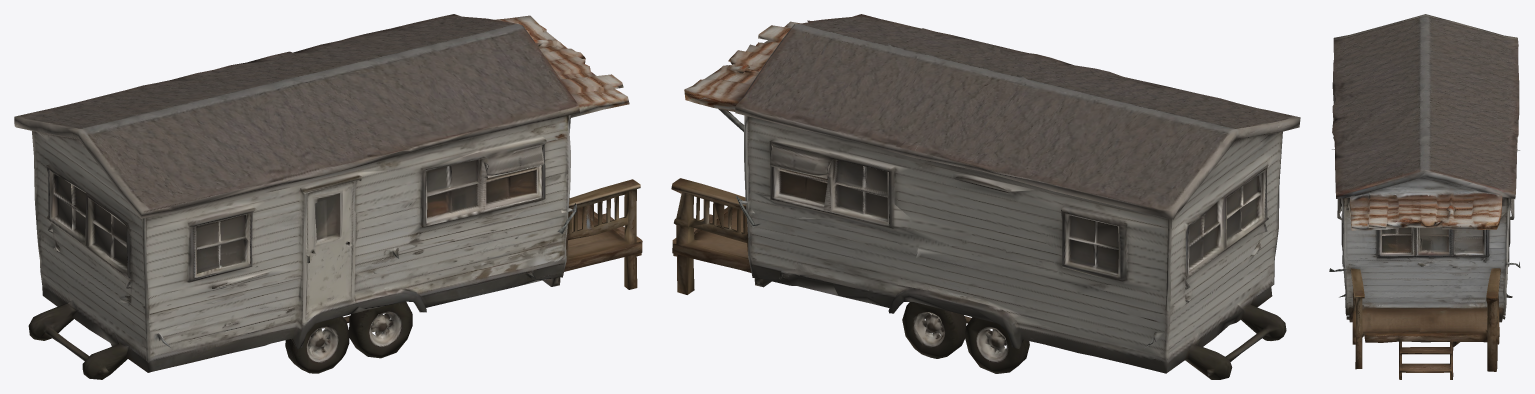
Rendered from trailer_home.glb.
The picture shows the model from 3 angles, left to right: view 1: azimuth 30°, elevation 25°; view 2: azimuth 150°, elevation 25°; view 3: azimuth 270°, elevation 25°; orthographic projection. The views are drawn at different scales.
Visible parts, largest first — view 1: tripo_node_c5d3173f-8279-444c-9bd8-8174b0c4b465; view 2: tripo_node_c5d3173f-8279-444c-9bd8-8174b0c4b465; view 3: tripo_node_c5d3173f-8279-444c-9bd8-8174b0c4b465.
Boxes of the visible parts, left/top/right/bottom form: tripo_node_c5d3173f-8279-444c-9bd8-8174b0c4b465: left=14, top=14, right=642, bottom=379; tripo_node_c5d3173f-8279-444c-9bd8-8174b0c4b465: left=671, top=14, right=1300, bottom=379; tripo_node_c5d3173f-8279-444c-9bd8-8174b0c4b465: left=1329, top=14, right=1520, bottom=379.
Bounding box in the file's own units: 1 × 0.4209 × 0.4068.
1 material, 1 textured.
